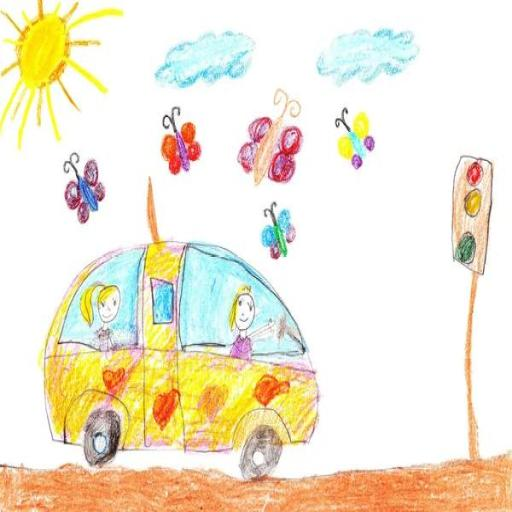person: (215, 279, 276, 371), (80, 278, 124, 362)
